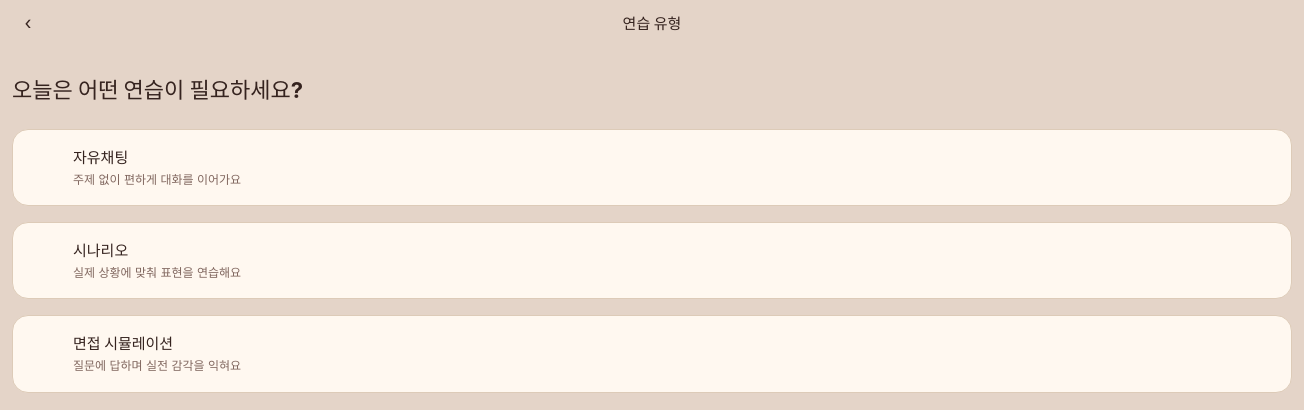
Test: 페르소나의 긴 설명을 관계와 성격 태그 2개로만 요약한다
Click the button "자유채팅 주제 없이 편하게 대화를 이어가요": (101,158) [12,129,1292,206]
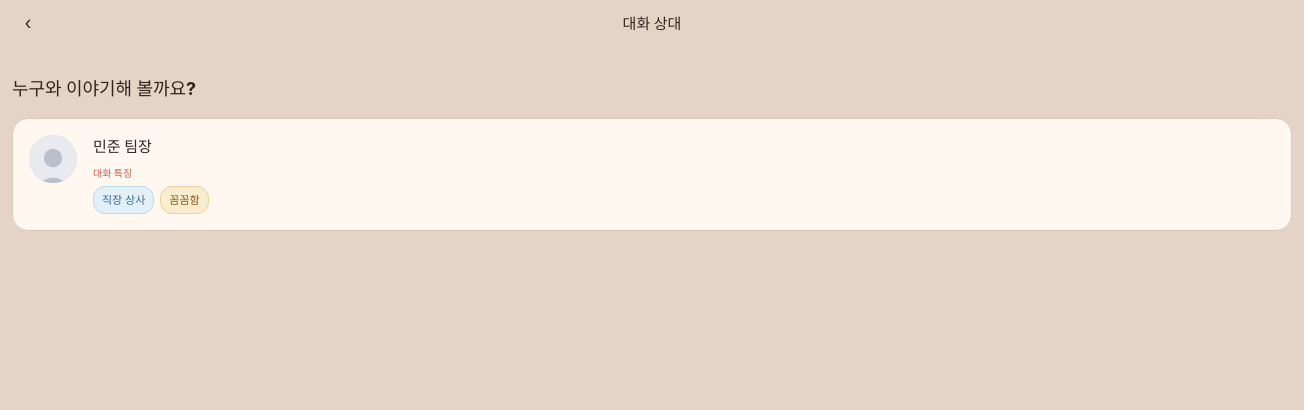
Result: the text "대화 특징" is shown at [93,167,132,179]
Result: the text "직장 상사" is shown at [93,186,154,214]
Result: the text "꼼꼼함" is shown at [160,186,209,214]
